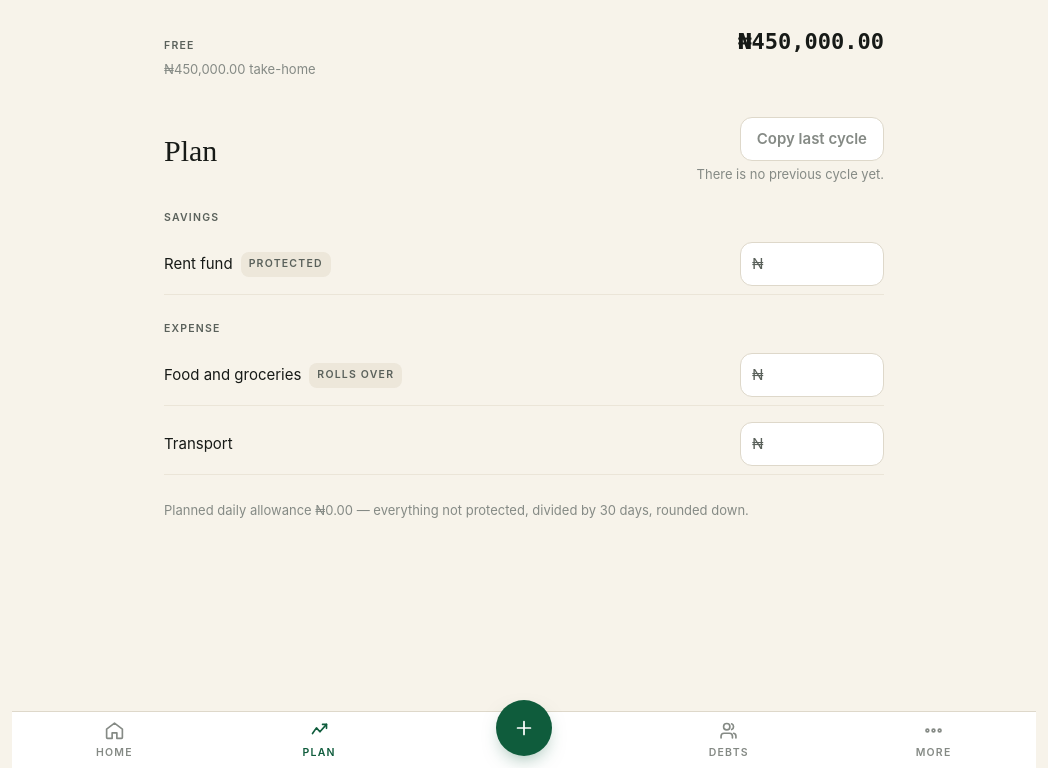
Scenario: unallocated is the whole feedback loop › falls as rows are filled in, and each row autosaves on blur
expect the heading "Plan" is shown: met, box [164,132,217,168]
Click the field named "Rent fund amount" in the row of "Rent fund": (812, 264) [740,242,884,286]
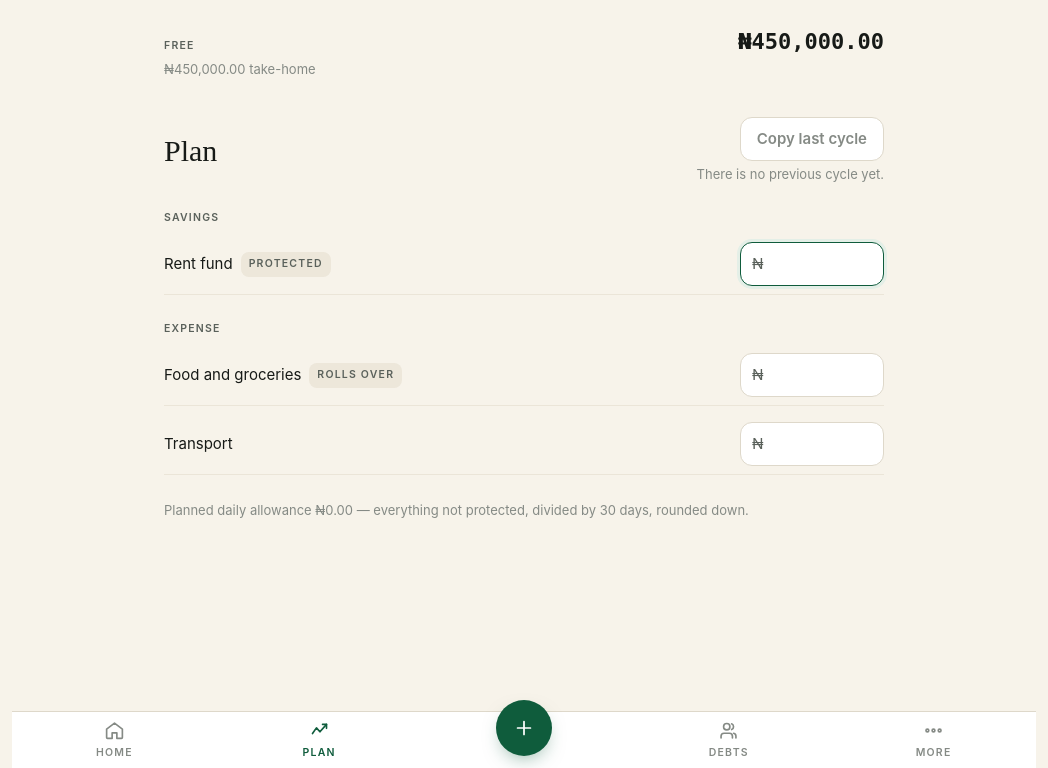
Type keys "75000"
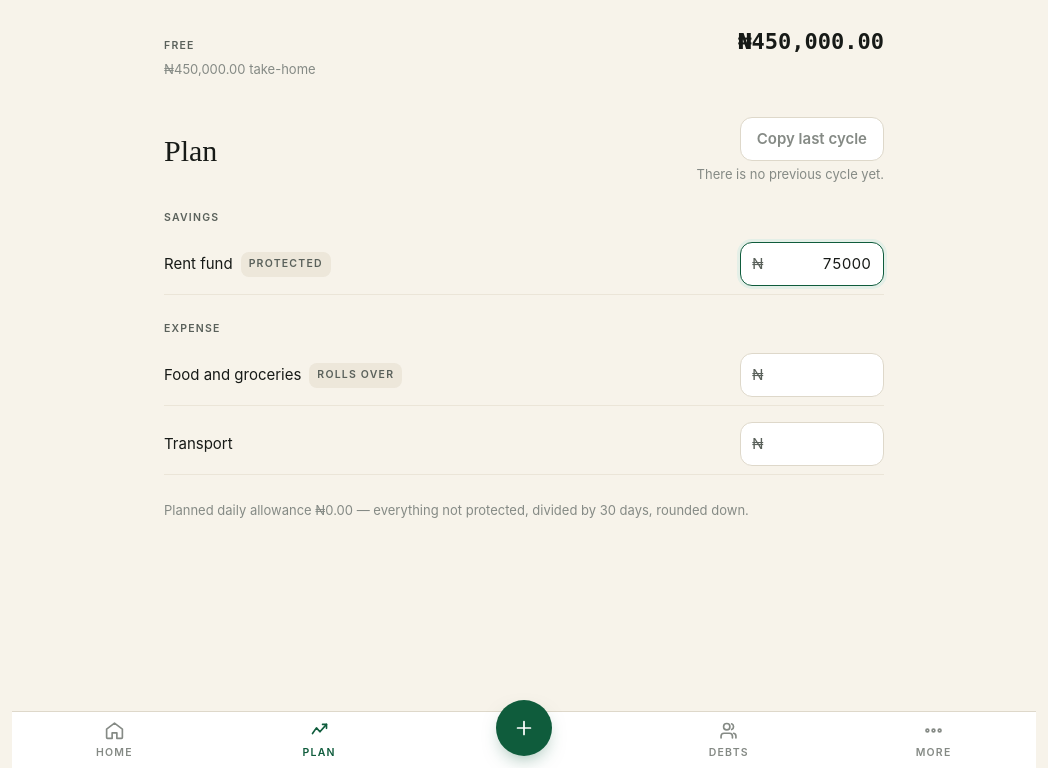
// No Save button anywhere: blur is the commit.
Press Tab
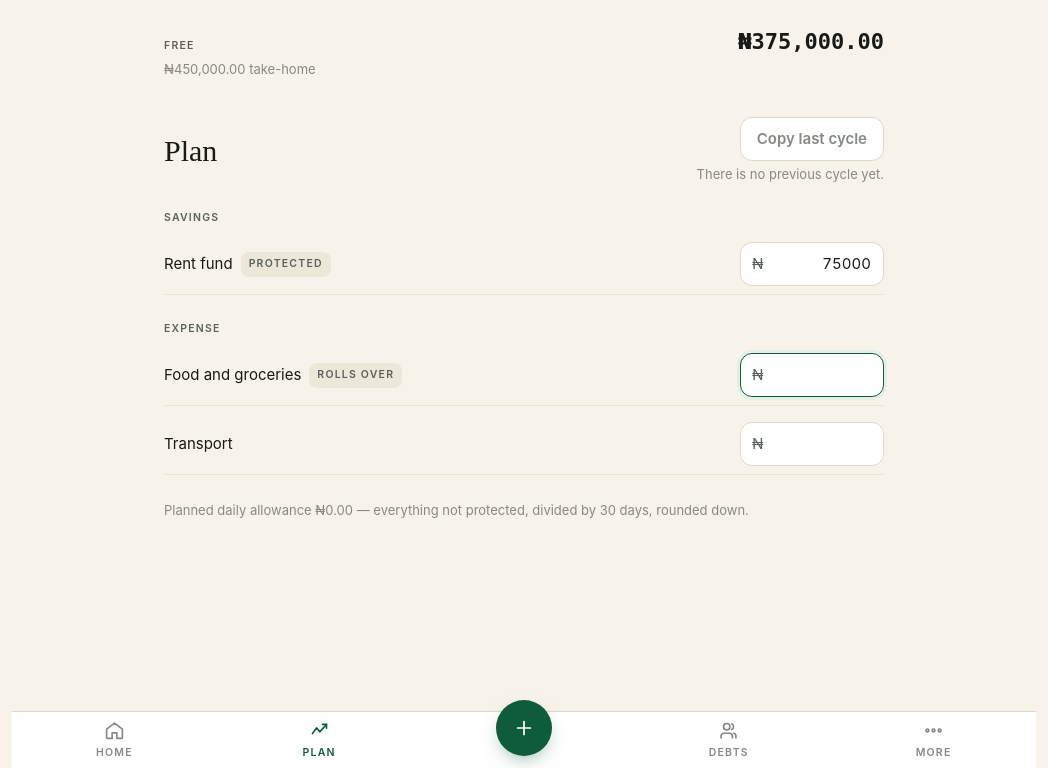
expect the text "₦375,000.00" is shown: met, box [738,28,884,56]
